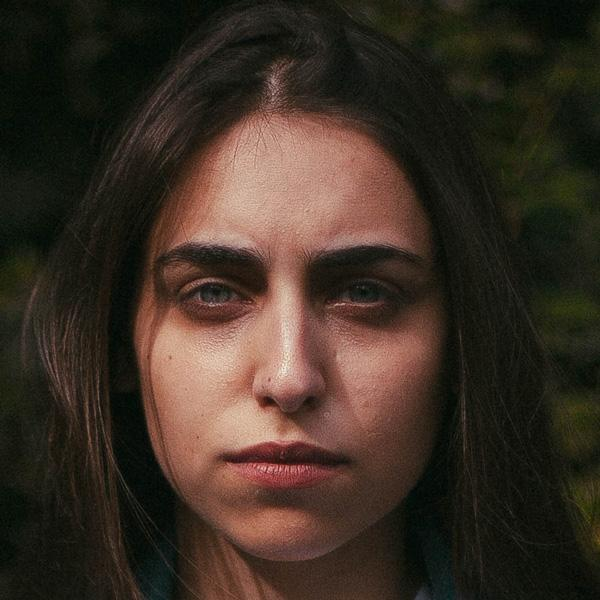Eyes: (314, 268, 408, 328), (172, 268, 258, 330)
